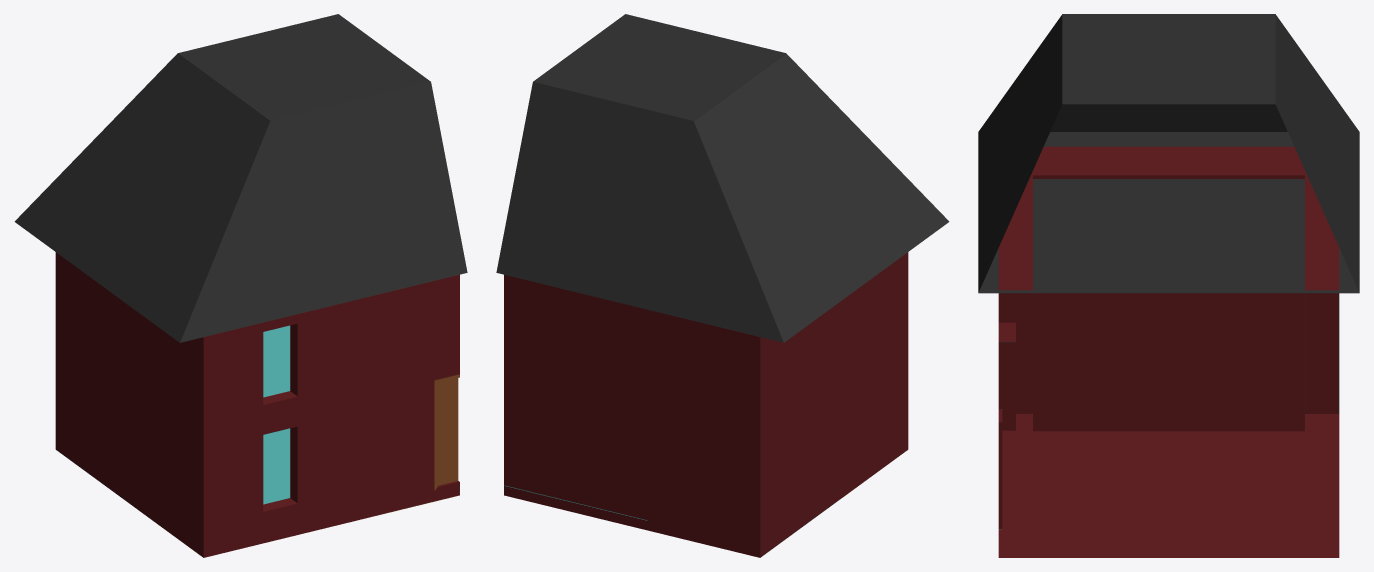
Rendered from house_left.glb.
3 renders of one model, left to right at view 1: azimuth 30°, elevation 25°; view 2: azimuth 150°, elevation 25°; view 3: azimuth 270°, elevation 25°, orthographic. The views are drawn at different scales.
Parts seen in each view (by area): view 1: house_left; view 2: house_left; view 3: house_left.
Boxes of the visible parts, left/top/right/bottom form: house_left: left=14, top=14, right=467, bottom=557; house_left: left=496, top=14, right=949, bottom=557; house_left: left=978, top=14, right=1359, bottom=557.
Size of what is drawn, in the model's own units: 9.02 by 11.75 by 8.96.
1 material, 1 textured.
